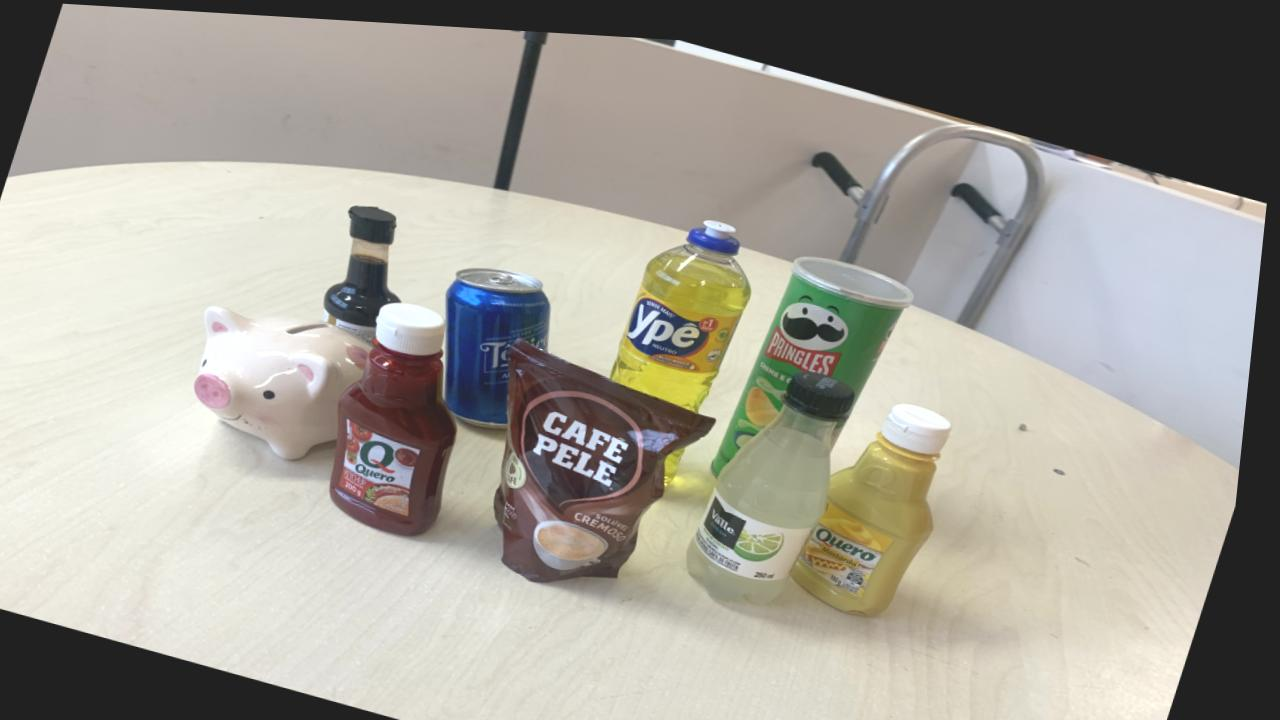Coffee-Pantry_Items: (504, 334, 723, 575)
Detergent-Cleanup_Items: (617, 212, 757, 403)
English_Sauce-Pantry_Items: (329, 200, 405, 338)
Ketchup-Pantry_Items: (339, 297, 465, 531)
Mustard-Pantry_Items: (802, 392, 960, 604)
Pig_Safe-Miscellaneous: (201, 303, 376, 456)
Pringles-Snacks: (720, 246, 919, 465)
Soda-Drinks: (697, 361, 863, 594)
Tonic-Drinks: (451, 262, 556, 422)
